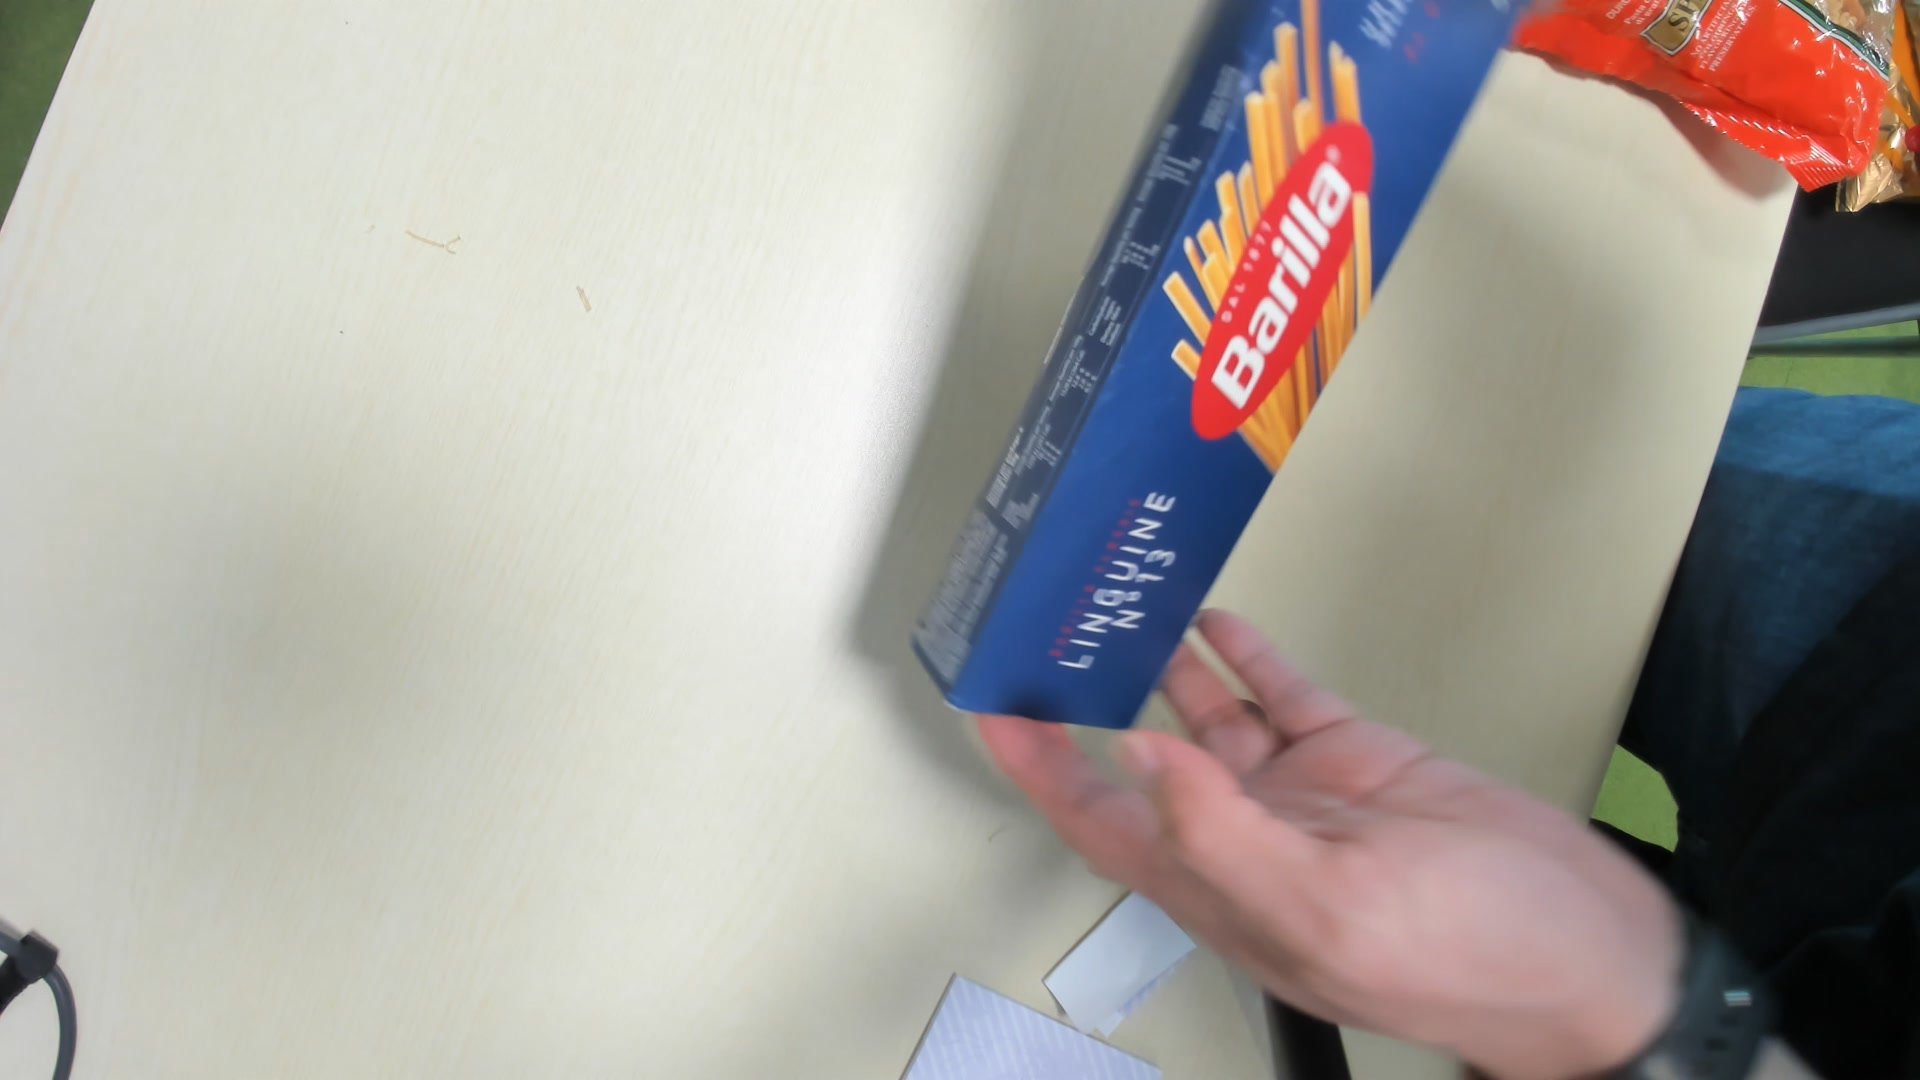Pasta_500-599g_NonHalal_NonHealthy: (907, 3, 1539, 733)
